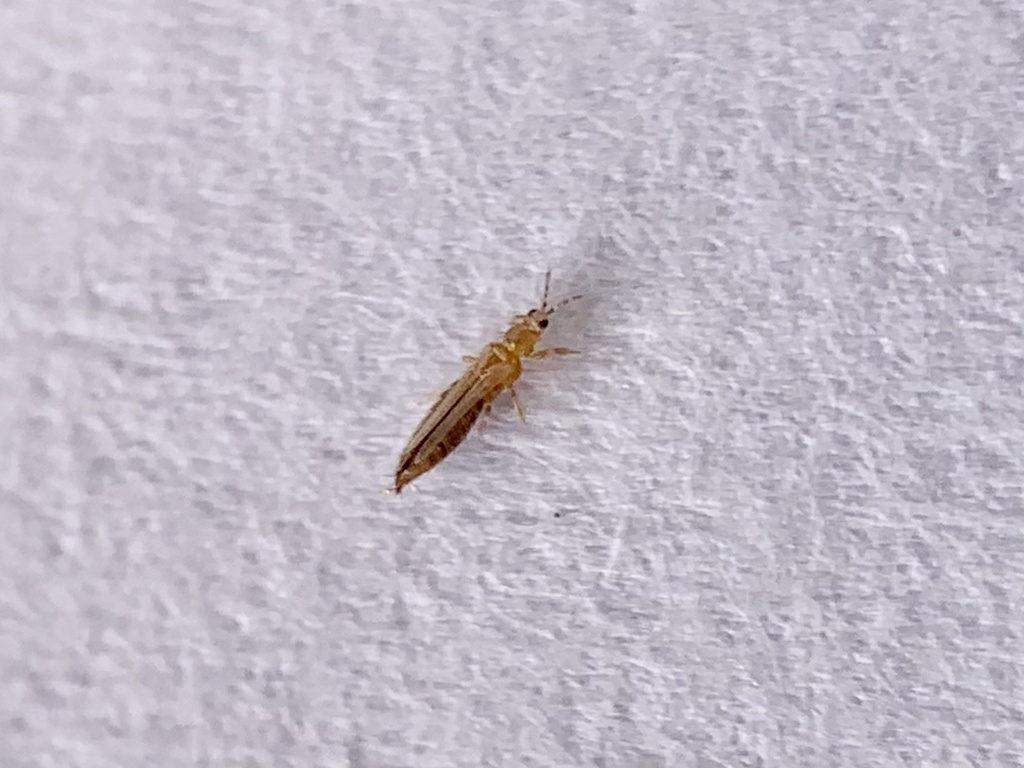tiny_pests: (309, 201, 671, 568)
